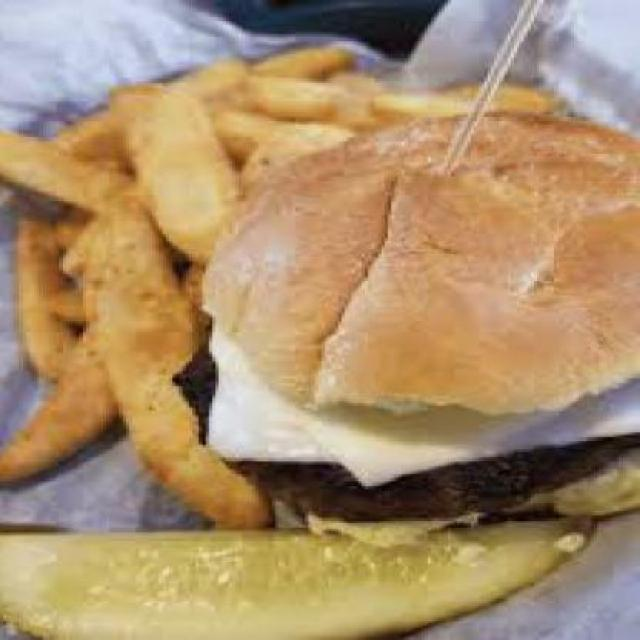french fries: (4, 37, 441, 528)
hamburger: (212, 92, 637, 523)
